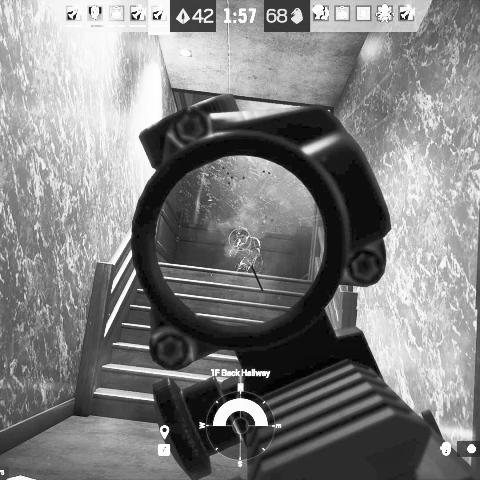Character: (231, 227, 264, 276)
Head: (235, 227, 251, 246)
